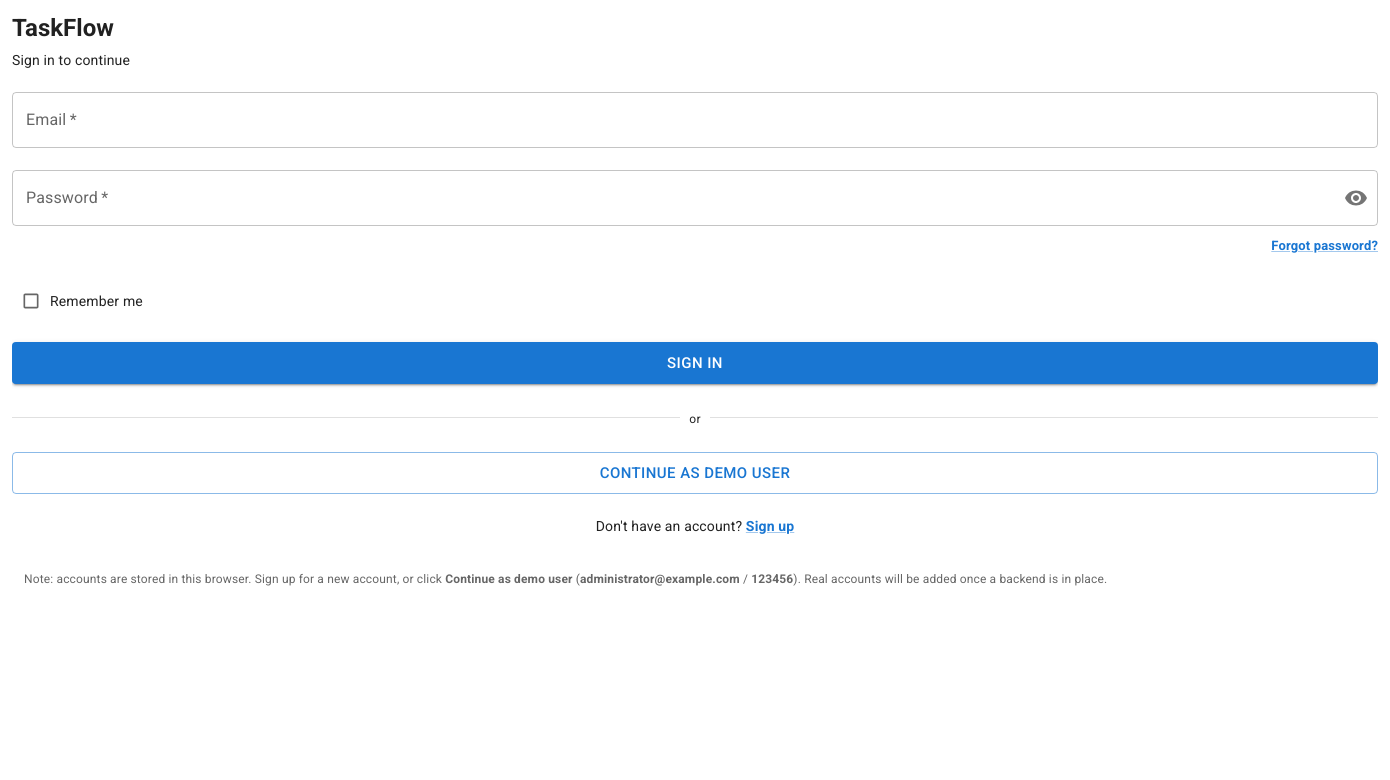
Test: LoginForm › shows validation errors when submitted empty
Click the button with test id "login-form-submit": {"x": 695, "y": 363} [12,342,1378,384]
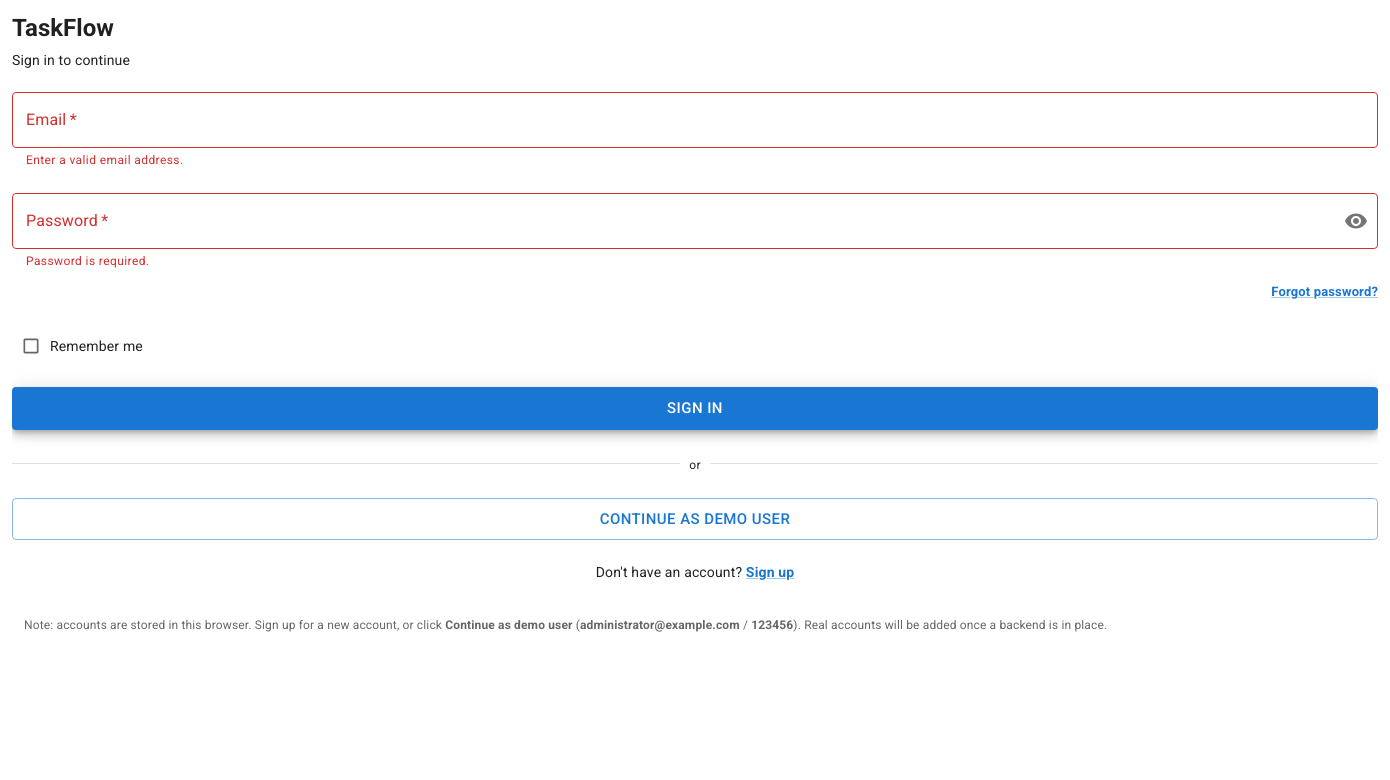
Now the text "Enter a valid email address." is shown, box [26,153,184,167]
Now the text "Password is required." is shown, box [26,254,149,268]
